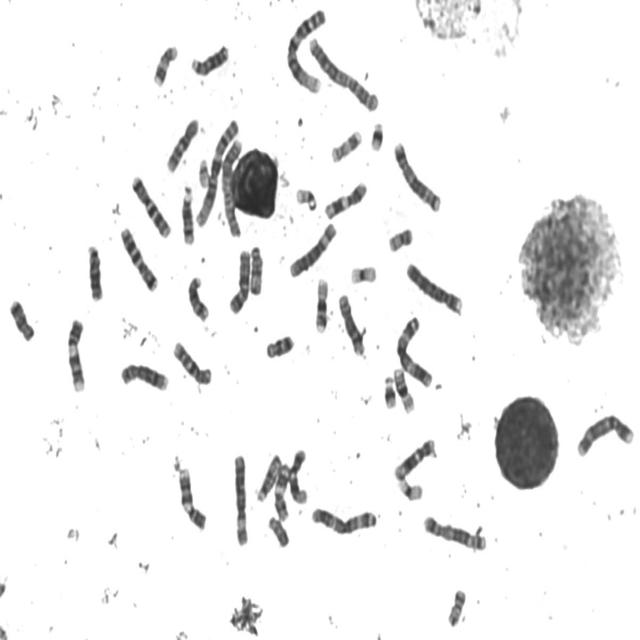A1: (194, 117, 243, 230), (284, 2, 328, 95)
A2: (306, 32, 381, 113), (219, 132, 245, 239)
A3: (393, 311, 435, 389), (309, 501, 378, 537)
B4: (404, 257, 465, 317), (574, 409, 636, 459)
B5: (391, 136, 443, 213), (421, 510, 488, 553)
C10: (164, 113, 201, 175), (170, 336, 214, 387)
C11: (322, 176, 369, 220), (272, 458, 292, 522)
C12: (392, 433, 438, 483), (287, 444, 310, 505)
C6: (287, 217, 338, 280), (231, 449, 251, 547)
C7: (129, 169, 173, 240), (118, 221, 160, 294)
C8: (336, 288, 368, 358), (118, 357, 170, 393)
C9: (176, 462, 208, 532), (64, 312, 88, 394)
D13: (188, 39, 231, 78), (84, 240, 105, 303)
D14: (185, 271, 211, 323), (179, 180, 197, 247)
D15: (254, 449, 283, 503), (248, 240, 266, 296)
E16: (391, 362, 417, 414), (312, 274, 331, 335)
E17: (150, 39, 180, 88), (329, 124, 364, 164)
E18: (6, 293, 36, 343), (263, 330, 296, 360)
F19: (395, 473, 426, 503), (348, 260, 379, 286)
F20: (445, 583, 468, 629), (386, 222, 415, 253)
G21: (381, 371, 398, 410), (368, 116, 386, 152)
G22: (293, 183, 319, 212), (196, 152, 212, 188)
X: (226, 244, 252, 316)
Y: (265, 511, 291, 549)
